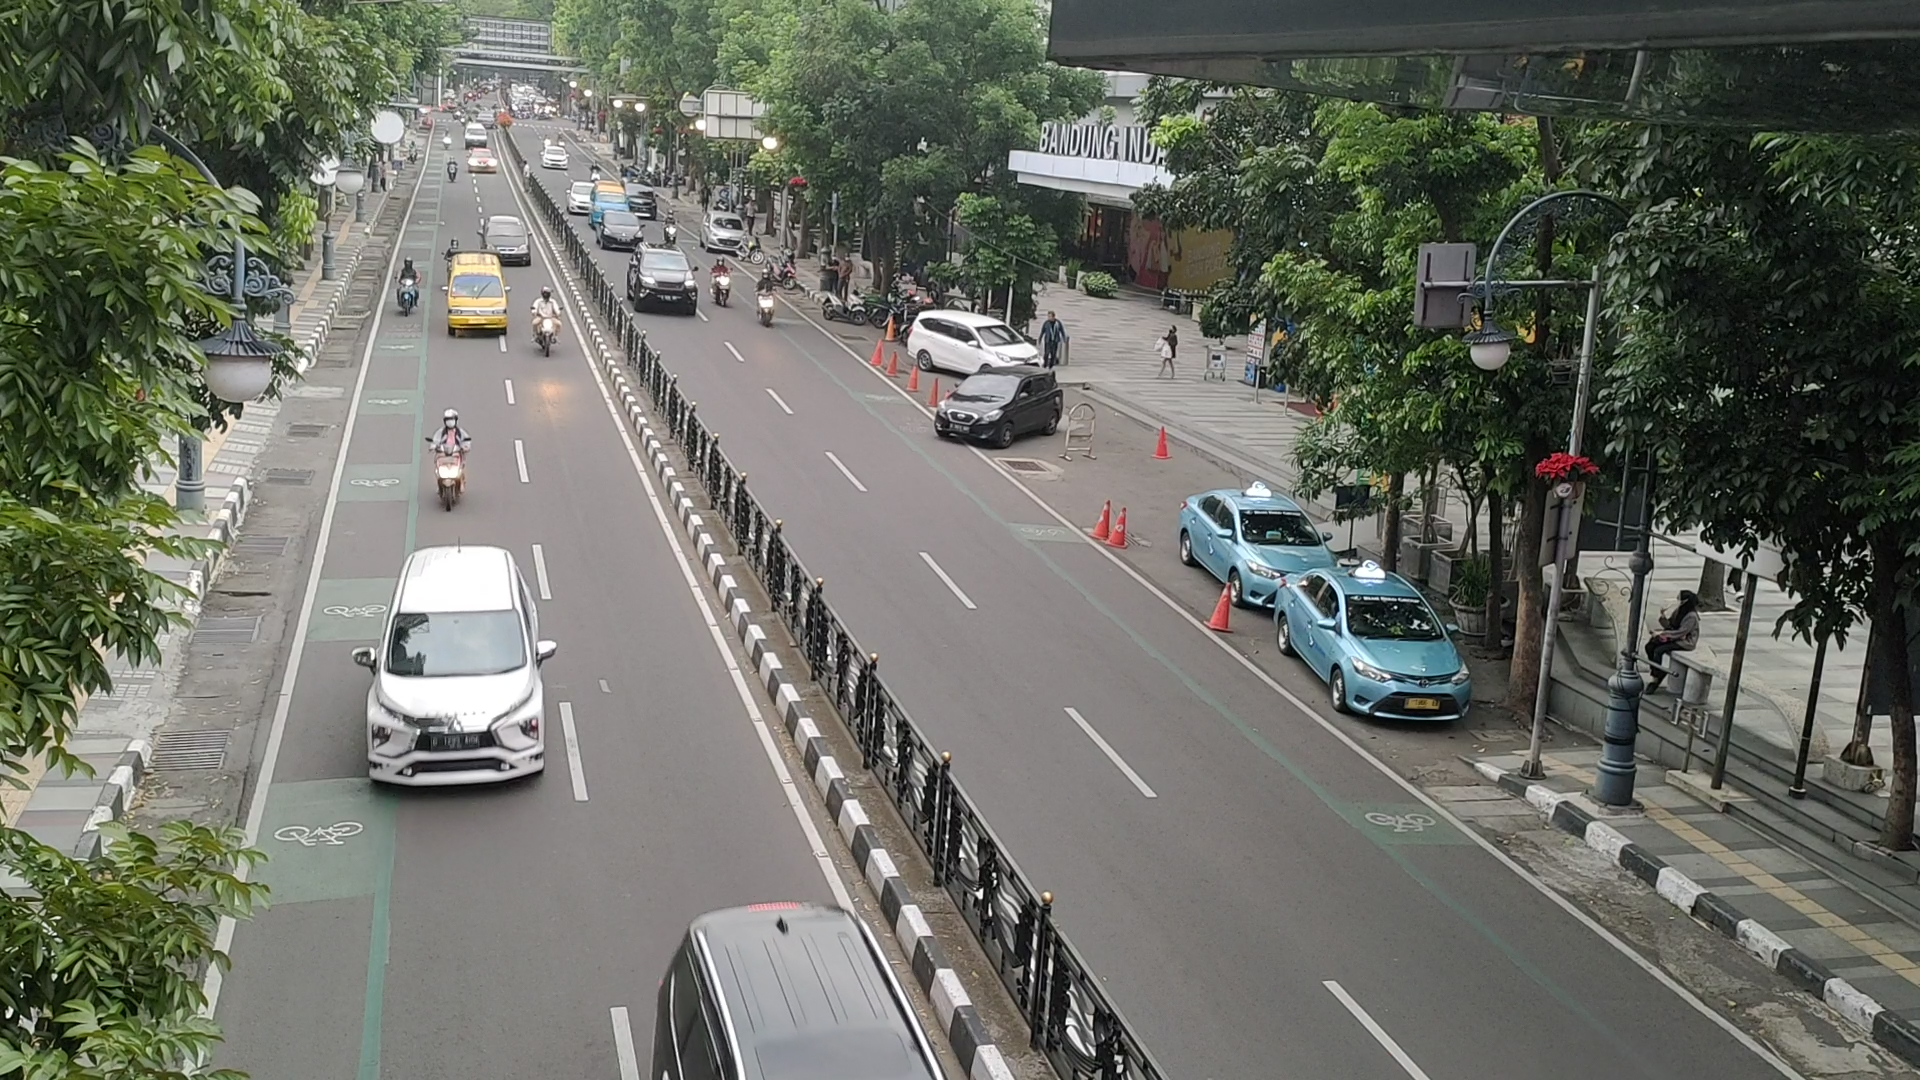mobil: (359, 608, 549, 799), (1327, 591, 1478, 731), (932, 364, 1025, 455), (963, 315, 1042, 382), (446, 261, 506, 342), (637, 249, 700, 315)
motor: (427, 406, 473, 513), (531, 284, 564, 361), (750, 270, 779, 334), (392, 255, 419, 316)
